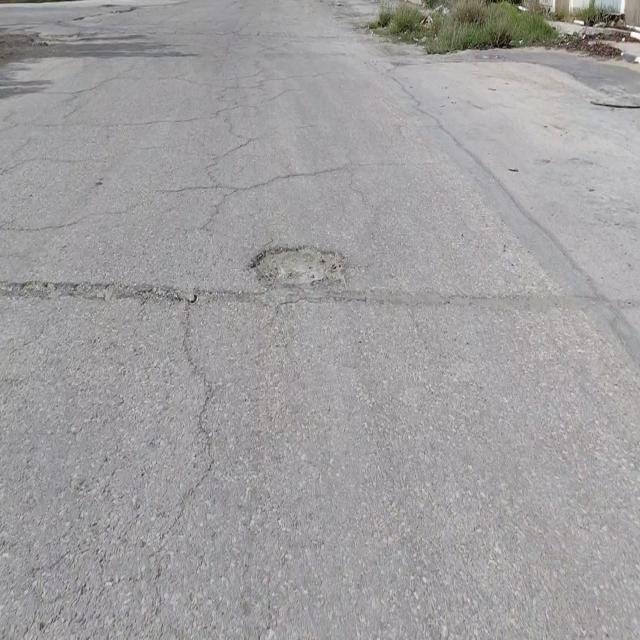Potholes: (247, 243, 346, 288)
